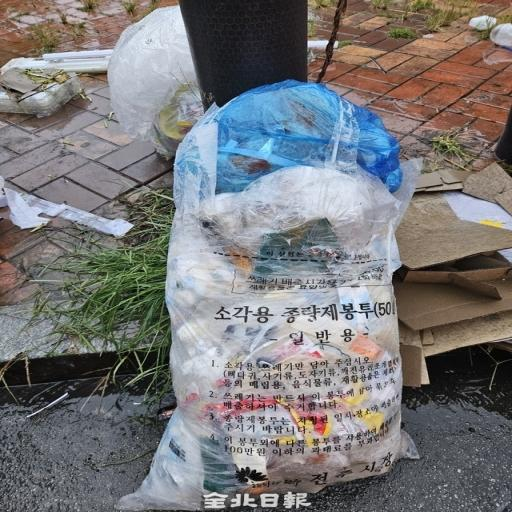paper: (408, 160, 511, 388), (0, 70, 65, 92)
plastic: (0, 73, 80, 116)
vinyl: (169, 82, 404, 486), (108, 7, 195, 140)
